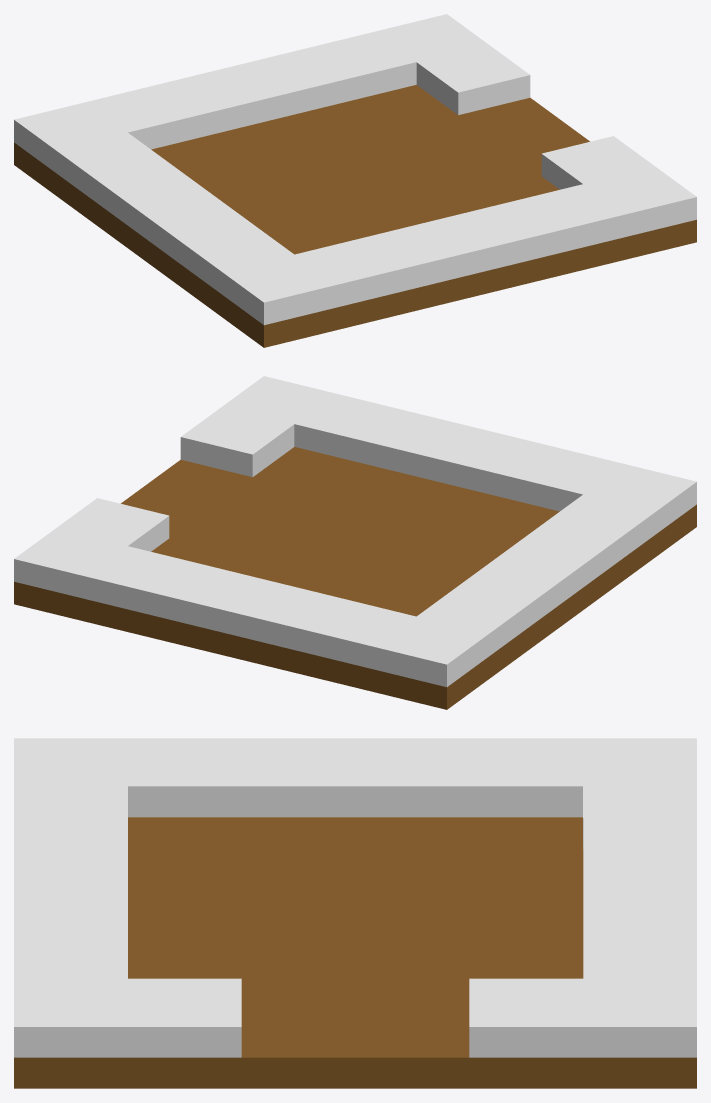
Rendered from WinterStart.fbx.
3 views of the same model, one above another, from view 1: azimuth 30°, elevation 25°; view 2: azimuth 150°, elevation 25°; view 3: azimuth 270°, elevation 25° (orthographic). The views are drawn at different scales.
Parts seen in each view (by area): view 1: WinterStart; view 2: WinterStart; view 3: WinterStart.
Part boxes in pixels (box(x1,y1,x2,y2)): WinterStart: box(14, 14, 696, 347); WinterStart: box(14, 376, 696, 709); WinterStart: box(14, 738, 696, 1088).
Bounding box in the file's own units: 1 × 0.1 × 1.
